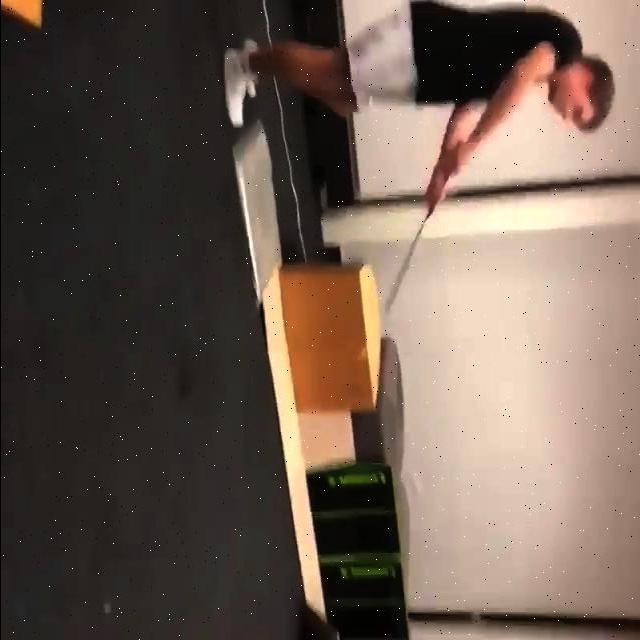golf club-handle: (379, 172, 449, 323)
